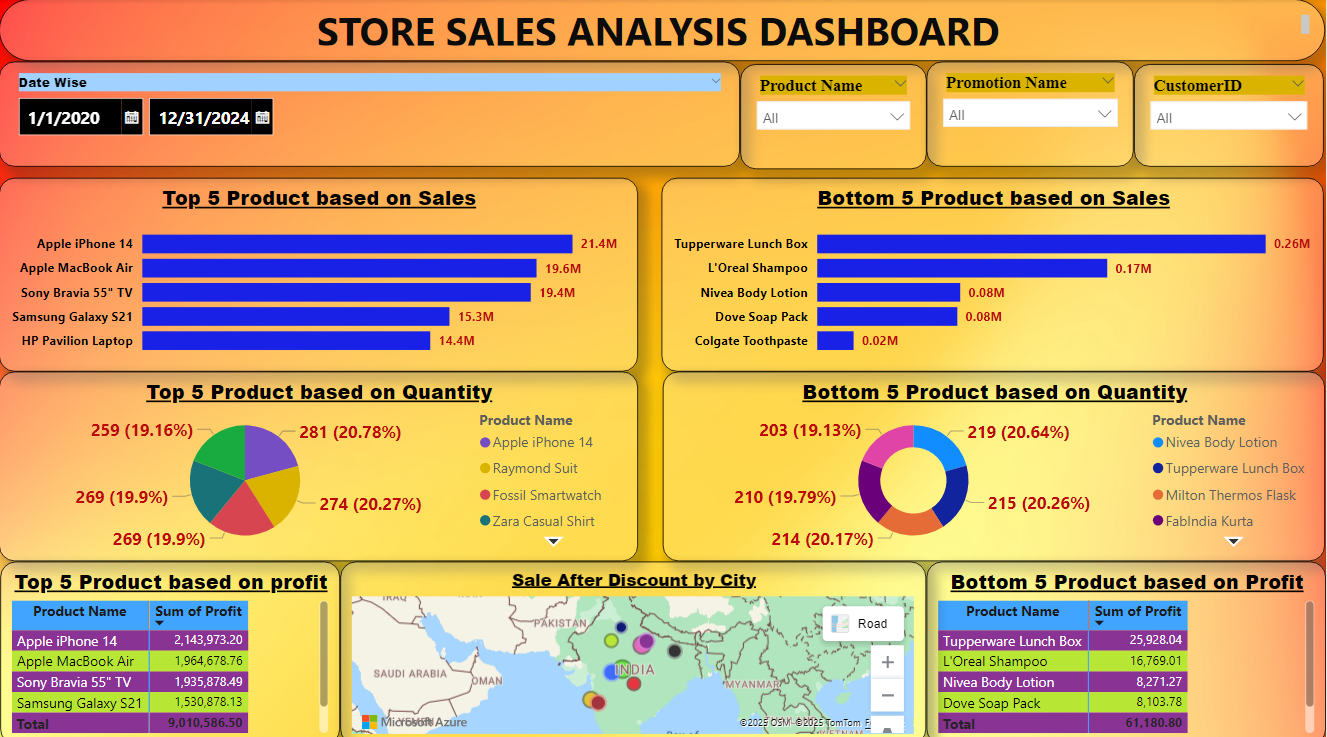

The dashboard page shown, as its layout file describes it:
{"tool":"powerbi","page":{"name":"Page 1","canvas":[1280,720],"ordinal":0},"visuals":[{"type":"barChart","title":"Top 5 Product based on Sales","fields":{"Category":["Sales.Product Name"],"Y":["Sum(Sales.Sale After Discount)"]},"box":[0,172.5,616.5,187],"z":0},{"type":"barChart","title":"Bottom 5 Product based on Sales","fields":{"Category":["Sales.Product Name"],"Y":["Sum(Sales.Sale After Discount)"]},"box":[639.4,172.5,639.4,187],"z":1000},{"type":"pieChart","title":"Top 5 Product based on Quantity","fields":{"Category":["Sales.Product Name"],"Y":["Sum(Sales.Units Sold)"]},"box":[0,359.5,616.5,183.4],"z":2000},{"type":"donutChart","title":"Bottom 5 Product based on Quantity","fields":{"Category":["Sales.Product Name"],"Y":["Sum(Sales.Units Sold)"]},"box":[640.6,359.5,639.4,183.4],"z":3000},{"type":"textbox","box":[0,0,1280,60.3],"z":4000},{"type":"pivotTable","title":"Top 5 Product based on profit","fields":{"Rows":["Sales.Product Name"],"Values":["Sum(Sales.Profit)"]},"box":[1.4,543.4,328,177],"z":5000},{"type":"pivotTable","title":"Bottom 5 Product based on Profit","fields":{"Rows":["Sales.Product Name"],"Values":["Sum(Sales.Profit)"]},"box":[894.7,543.4,385.6,177],"z":6000},{"type":"slicer","fields":{"Values":["Date Table.Date"]},"box":[0,60.3,715.4,101.3],"z":7000},{"type":"slicer","fields":{"Values":["Sales.Product Name"]},"box":[715.4,62.7,179.8,101.3],"z":8000},{"type":"slicer","fields":{"Values":["Promotion.Promotion Name"]},"box":[895.2,60.3,200.3,101.3],"z":9000},{"type":"slicer","fields":{"Values":["Sales.CustomerID"]},"box":[1095.4,62.7,183.4,98.9],"z":10000},{"type":"azureMap","fields":{"Category":["Customers.City"],"Size":["Sum(Sales.Sale After Discount)"]},"box":[329.3,543.4,565.4,177],"z":10001}]}

Visuals, with their boxes in screenshot pixels (x1, y1, x2, y2), scaled from the page's 1280x720 canvas onto the 1327x737 screenshot:
"Top 5 Product based on Sales" barChart: (0, 177, 639, 368)
"Bottom 5 Product based on Sales" barChart: (663, 177, 1326, 368)
"Top 5 Product based on Quantity" pieChart: (0, 368, 639, 556)
"Bottom 5 Product based on Quantity" donutChart: (664, 368, 1326, 556)
textbox: (0, 0, 1326, 62)
"Top 5 Product based on profit" pivotTable: (1, 556, 341, 736)
"Bottom 5 Product based on Profit" pivotTable: (928, 556, 1326, 736)
slicer - Date Table.Date: (0, 62, 742, 165)
slicer - Sales.Product Name: (742, 64, 928, 168)
slicer - Promotion.Promotion Name: (928, 62, 1136, 165)
slicer - Sales.CustomerID: (1136, 64, 1326, 165)
azureMap - Customers.City x Sum(Sales.Sale After Discount): (341, 556, 928, 736)
